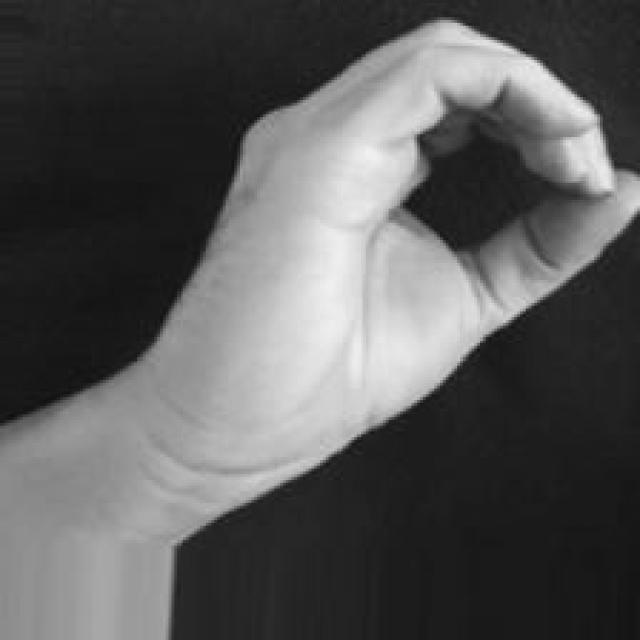O: (153, 17, 640, 551)
